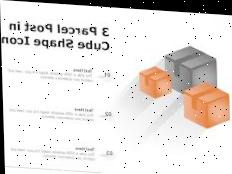cube: (181, 78, 229, 128), (137, 62, 170, 97)
